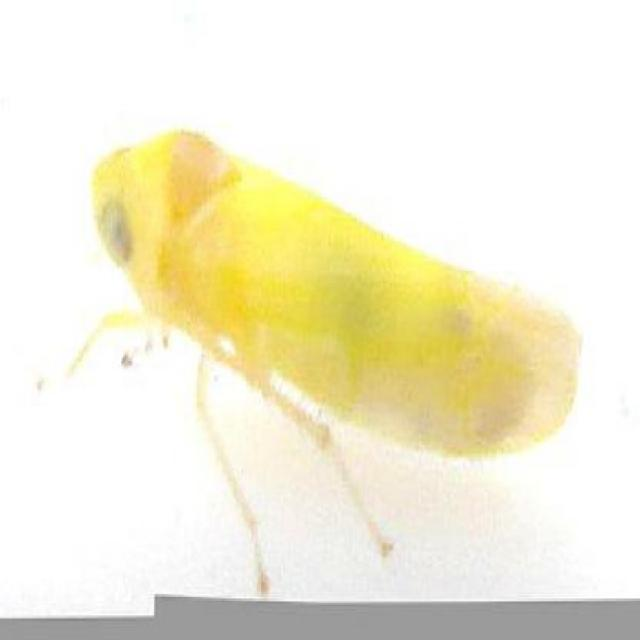green-leafhopper: (89, 126, 580, 457)
